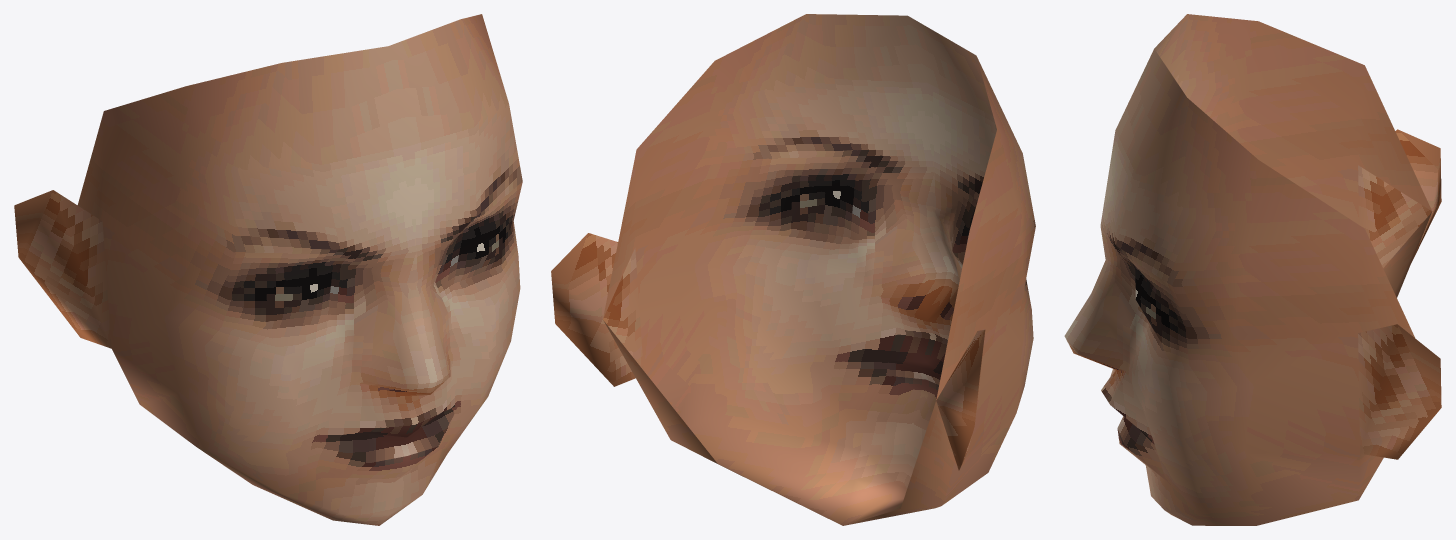
The picture shows the model from 3 angles, left to right: view 1: azimuth 30°, elevation 25°; view 2: azimuth 150°, elevation 25°; view 3: azimuth 270°, elevation 25°; orthographic projection. The views are drawn at different scales.
Bounding box in the file's own units: 19.4 × 20.27 × 14.69.
1 material, 1 textured.
